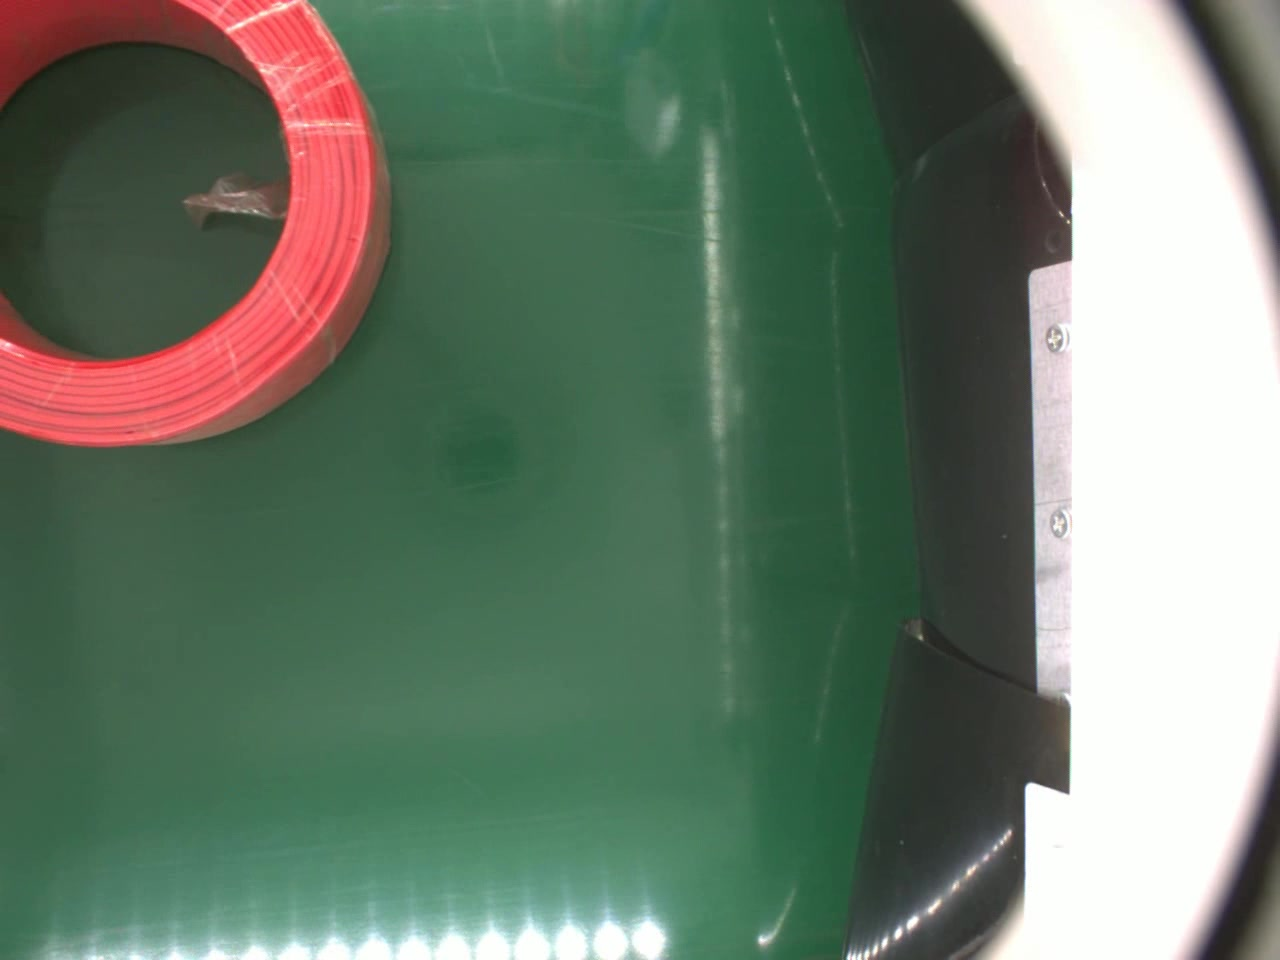red: (0, 0, 391, 454)
